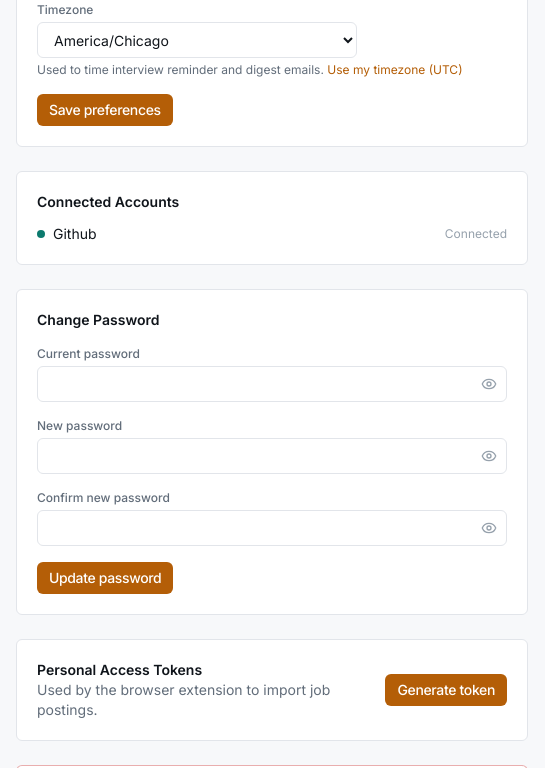
Scenario: ProfilePage › change password › validates minimum length and matching confirmation
(page scrolled)
Type "old-pass" into the password field labelled "Current password".
click(272, 384); type("old-pass")  # box [37,366,507,402]
Type "short" into the password field labelled "New password".
click(272, 456); type("short")  # box [37,438,507,474]
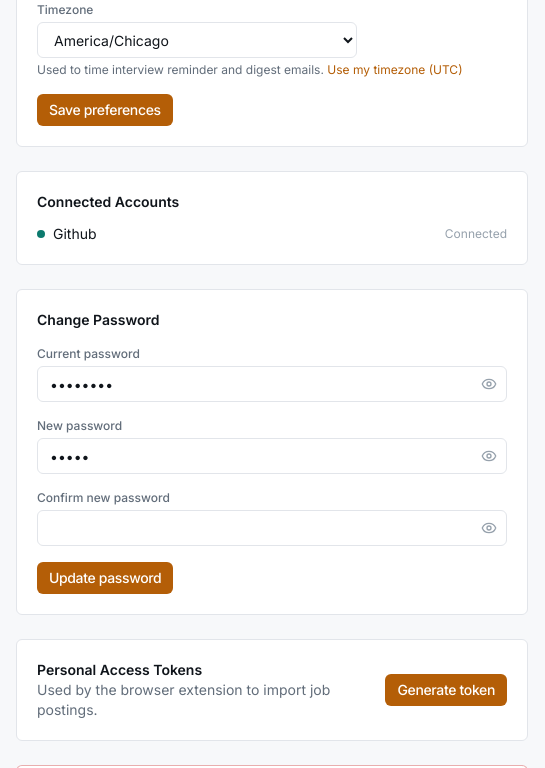
Type "short" into the password field labelled "Confirm new password".
click(272, 528); type("short")  # box [37,510,507,546]
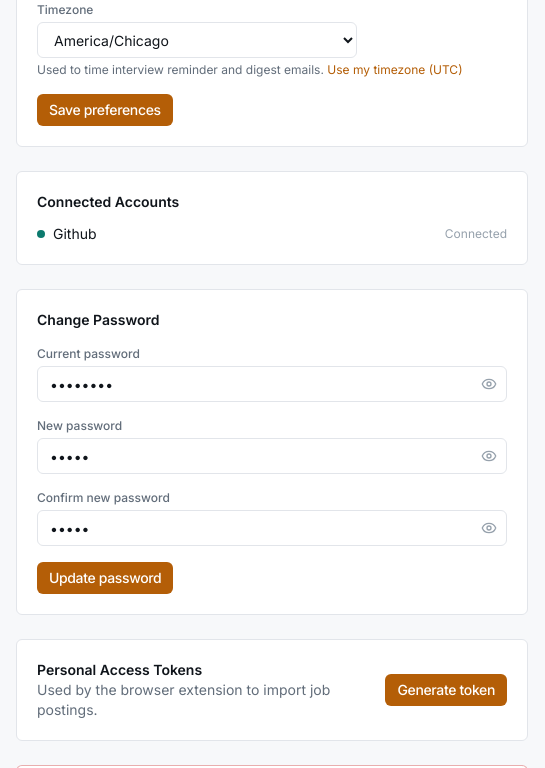
Click the button "Update password".
click(105, 578)  # box [37,562,173,594]
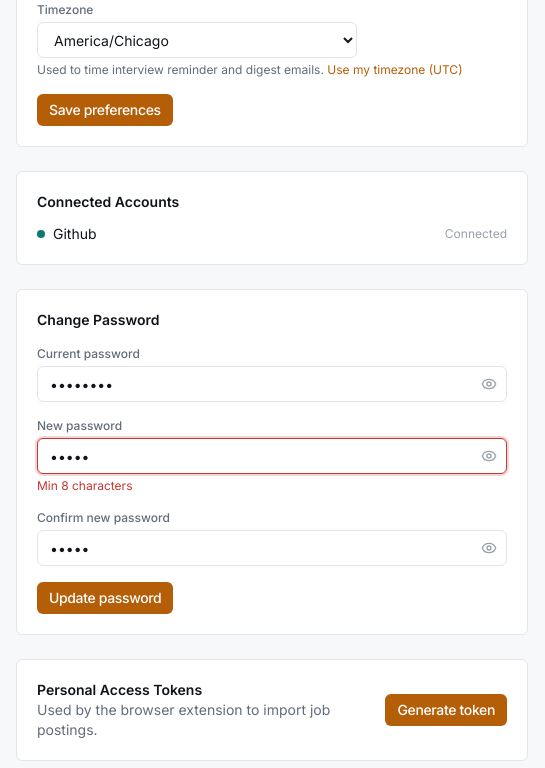
Expected: the text "Min 8 characters" is shown, [37,478,132,493]
Type "longenough1" into the password field labelled "New password".
click(272, 456); type("longenough1")  # box [37,438,507,474]
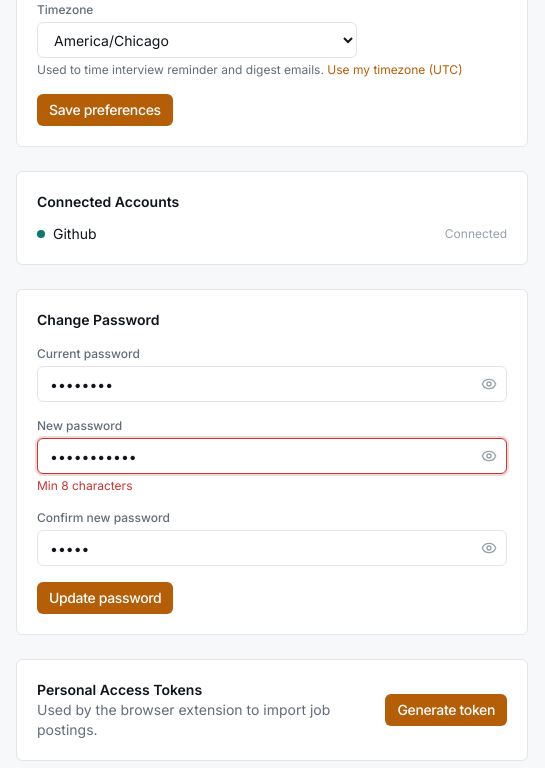
Type "different1" into the password field labelled "Confirm new password".
click(272, 548); type("different1")  # box [37,530,507,566]
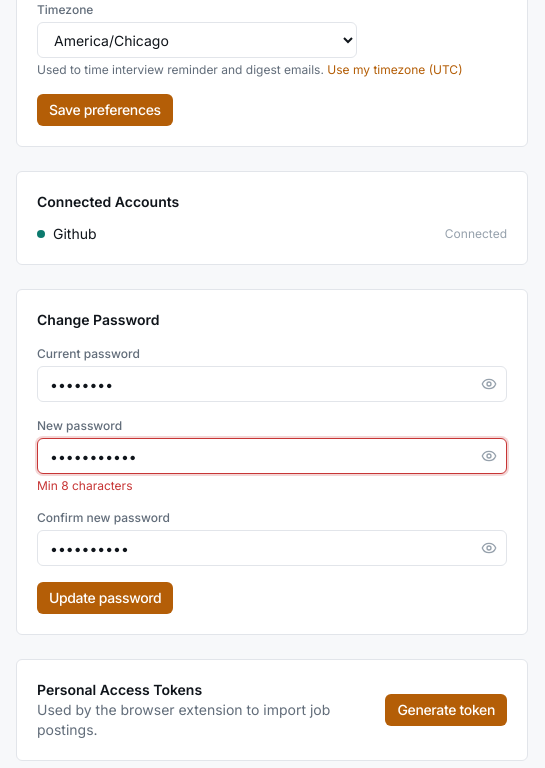
Click the button "Update password".
click(105, 598)  # box [37,582,173,614]
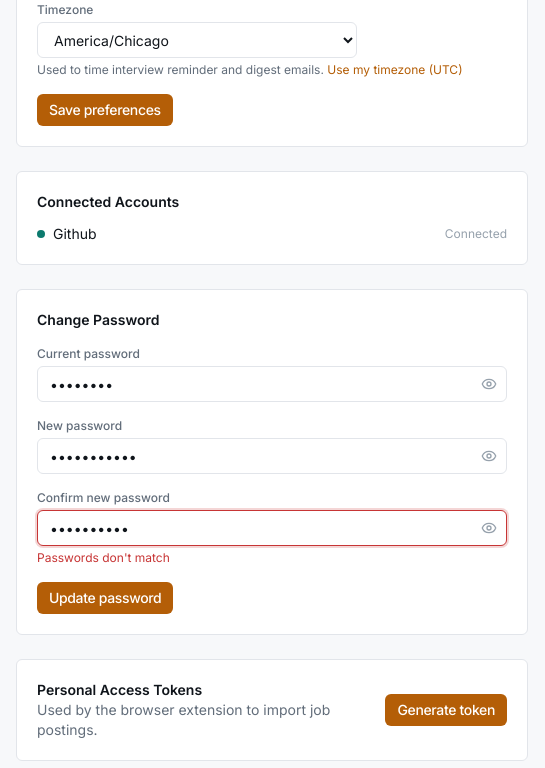
Expected: the text "Passwords don't match" is shown, [37,550,170,565]
